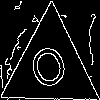O: (25, 41, 76, 100)
